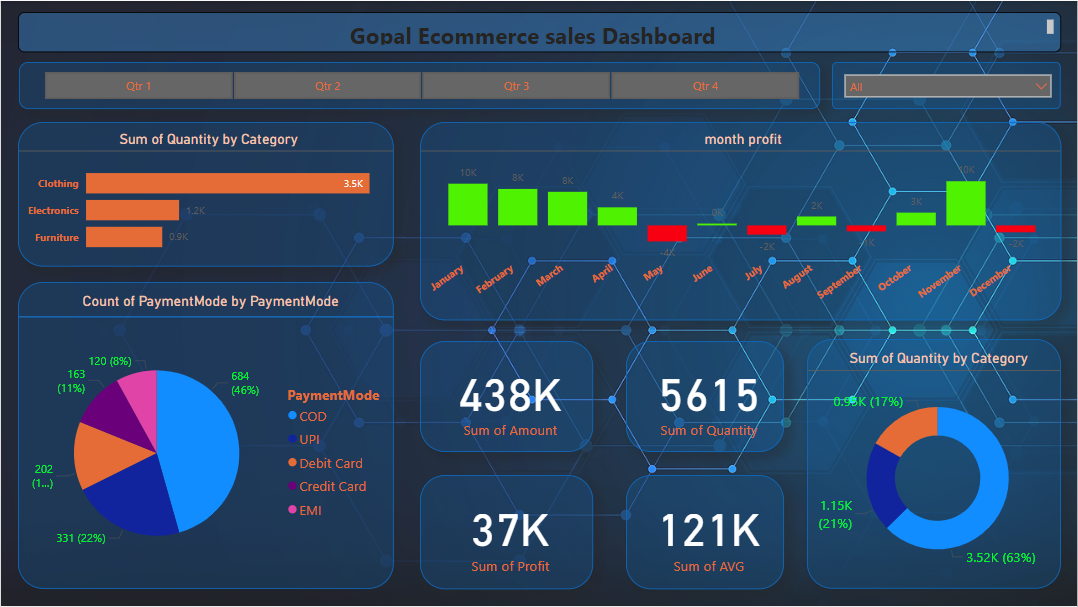

The page's visual inventory and layout, read from the dashboard file:
{"tool":"powerbi","page":{"name":"Page 1","canvas":[1280,720],"ordinal":0},"visuals":[{"type":"textbox","box":[20.2,13.1,1240.7,47.6],"z":0},{"type":"clusteredBarChart","fields":{"Category":["Details.Category"],"Y":["Details.Quantity"]},"box":[20.2,143.9,447.3,172.5],"z":1000},{"type":"columnChart","title":"month profit","fields":{"Category":["Orders.Order Date.Variation.Date Hierarchy.Month"],"Y":["Details.Profit"]},"box":[498.4,143.9,762.5,235.5],"z":2000},{"type":"donutChart","fields":{"Category":["Details.Category"],"Y":["Details.Quantity"]},"box":[958.8,402.1,302.2,297.4],"z":3000},{"type":"pieChart","fields":{"Category":["Details.PaymentMode"],"Y":["Details.PaymentMode"]},"box":[20.2,334.3,447.3,365.2],"z":4000},{"type":"card","fields":{"Values":["Details.Amount"]},"box":[498.4,404.5,205.8,132],"z":5000},{"type":"card","fields":{"Values":["Details.AVG"]},"box":[743.5,563.9,188,135.6],"z":6000},{"type":"card","fields":{"Values":["Details.Profit"]},"box":[498.4,563.9,205.8,135.6],"z":7000},{"type":"card","fields":{"Values":["Details.Quantity"]},"box":[743.5,404.5,188,132],"z":8000},{"type":"slicer","fields":{"Values":["Orders.Order Date.Variation.Date Hierarchy.Quarter"]},"box":[21.4,72.6,952.9,55.9],"z":9000},{"type":"slicer","fields":{"Values":["Orders.State"]},"box":[988.6,72.6,272.4,55.9],"z":10000}]}

Visuals, with their boxes in screenshot pixels (x1, y1, x2, y2), scaled from the page's 1280x720 canvas onto the 1078x607 screenshot:
textbox: 17,11,1062,51
clusteredBarChart - Details.Category x Details.Quantity: 17,121,394,267
"month profit" columnChart: 420,121,1062,320
donutChart - Details.Category x Details.Quantity: 807,339,1062,590
pieChart - Details.PaymentMode x Details.PaymentMode: 17,282,394,590
card - Details.Amount: 420,341,593,452
card - Details.AVG: 626,475,784,590
card - Details.Profit: 420,475,593,590
card - Details.Quantity: 626,341,784,452
slicer - Orders.Order Date.Variation.Date Hierarchy.Quarter: 18,61,821,108
slicer - Orders.State: 833,61,1062,108
